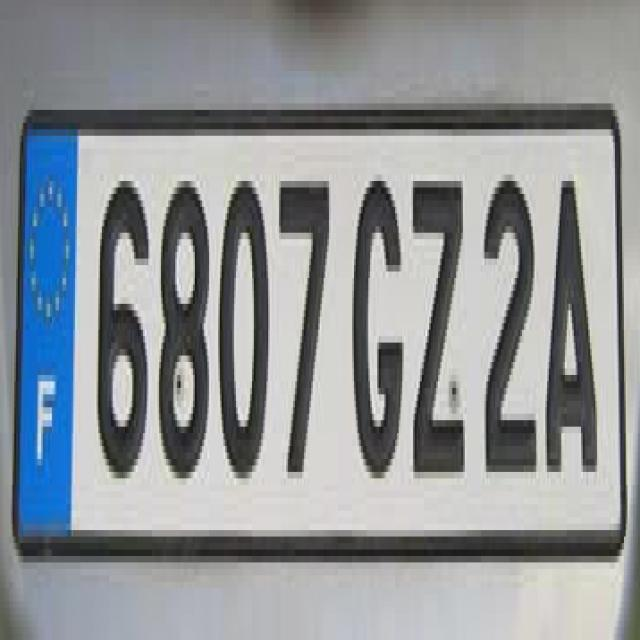EU: (18, 109, 624, 563)
France: (19, 118, 72, 532)
